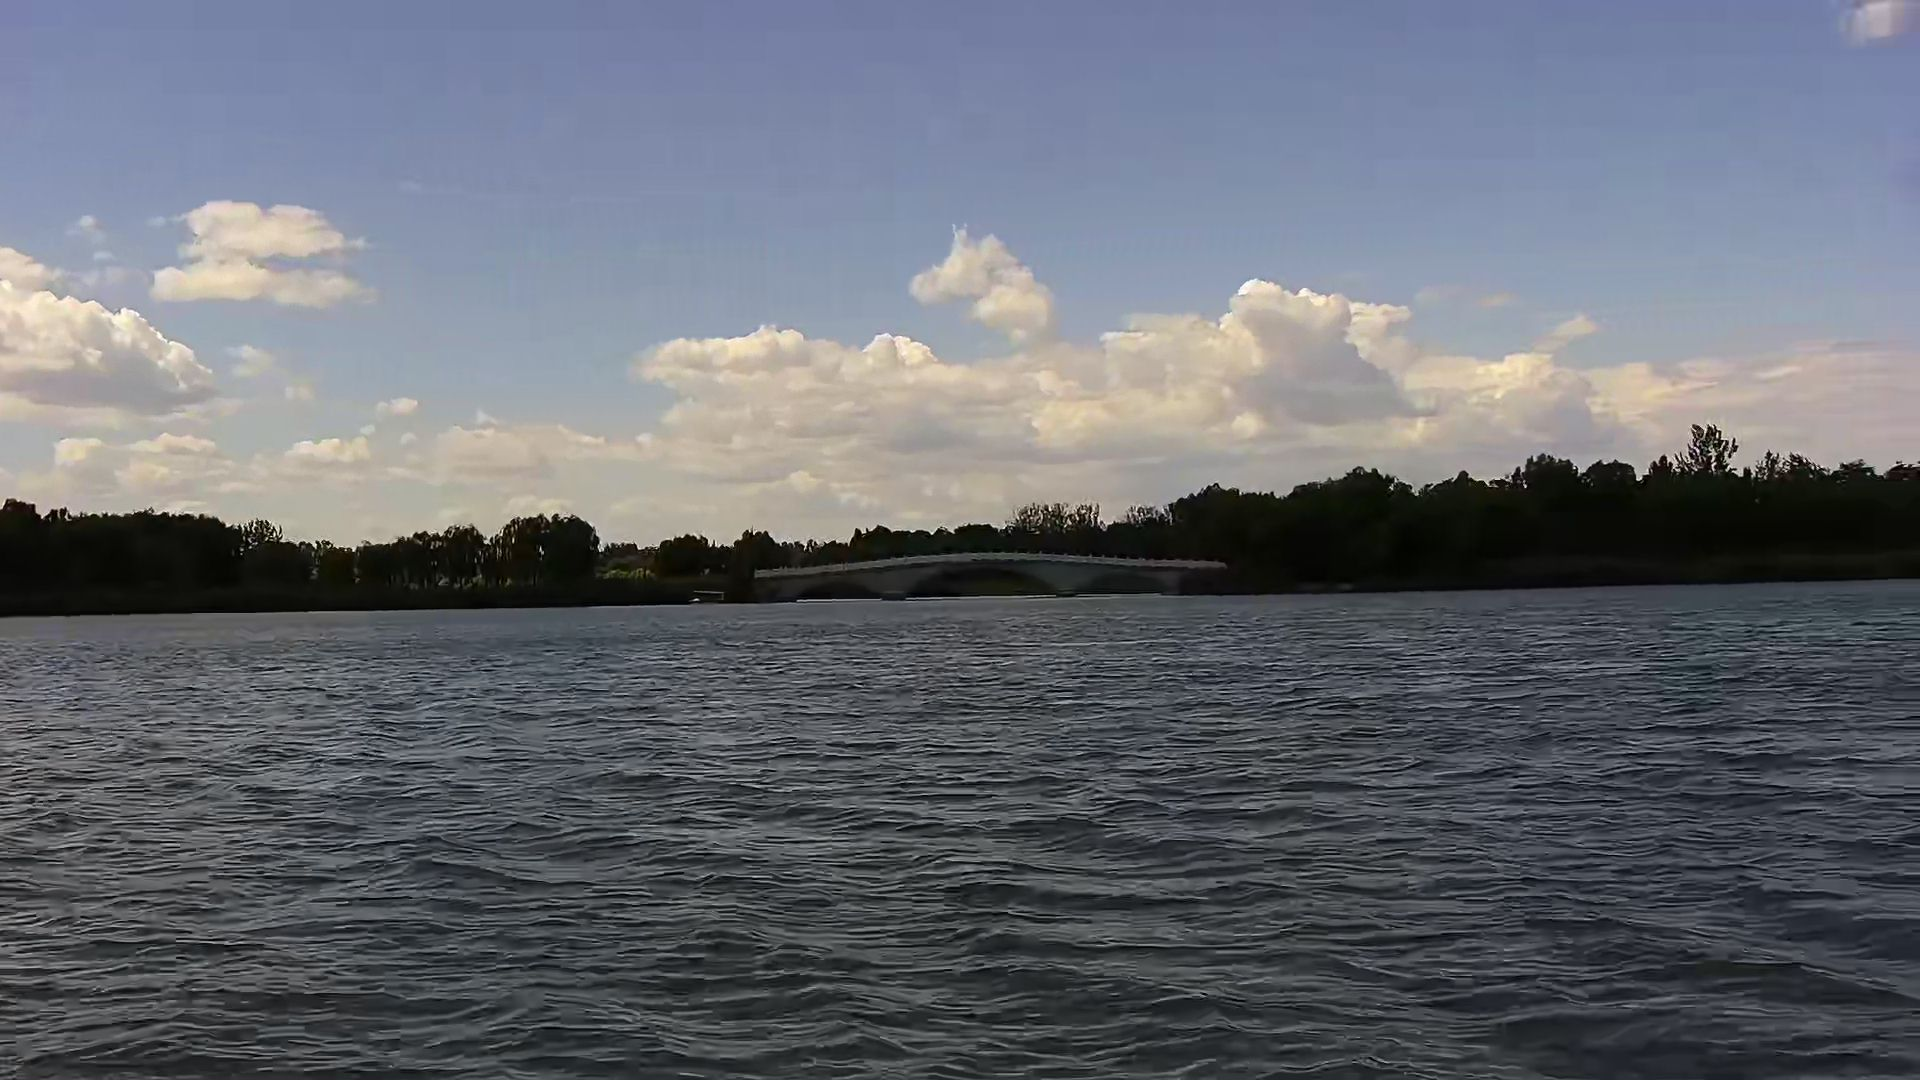bridge: (758, 541, 1232, 609)
